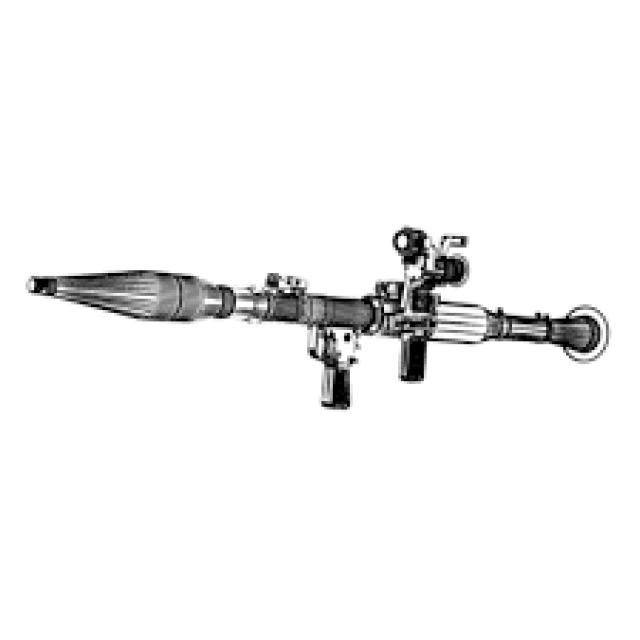Gun: (22, 216, 607, 447)
